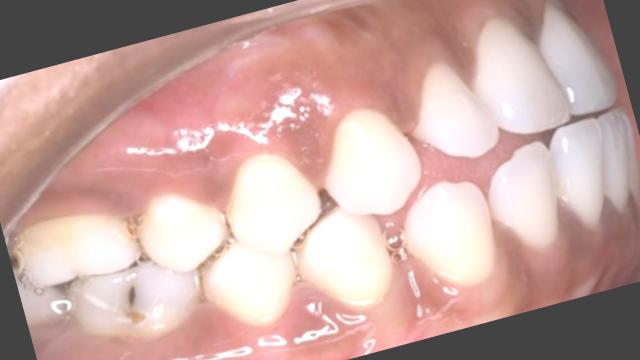canine class I: (259, 73, 515, 353)
molar class III 1/4: (0, 170, 215, 360)
